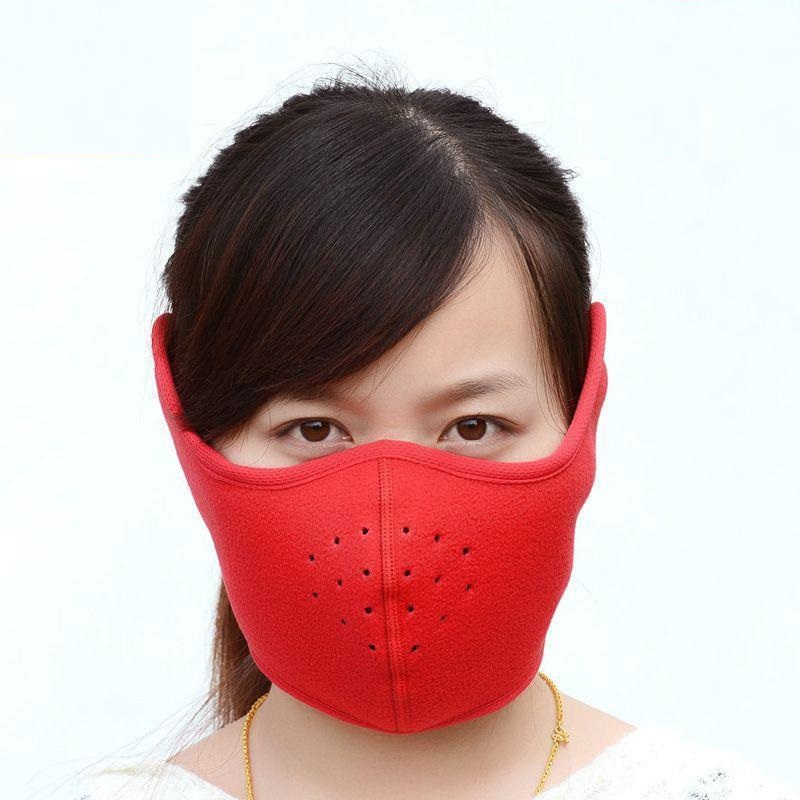face_mask: (207, 253, 577, 717)
